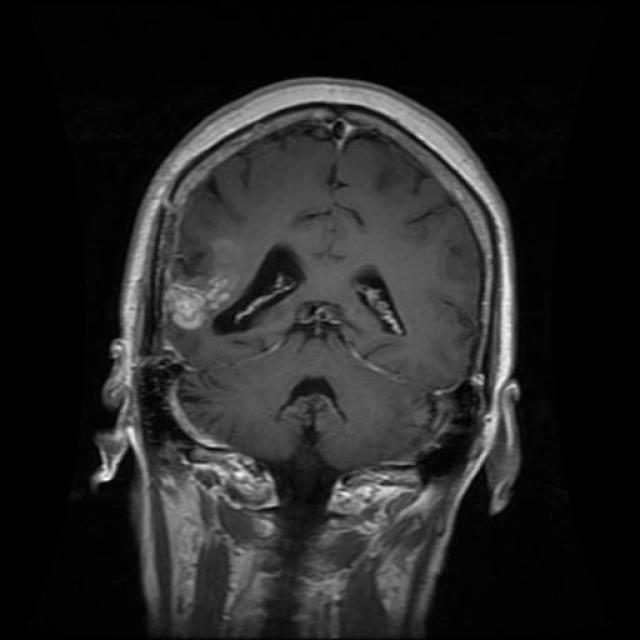glioma: (160, 232, 306, 346)
